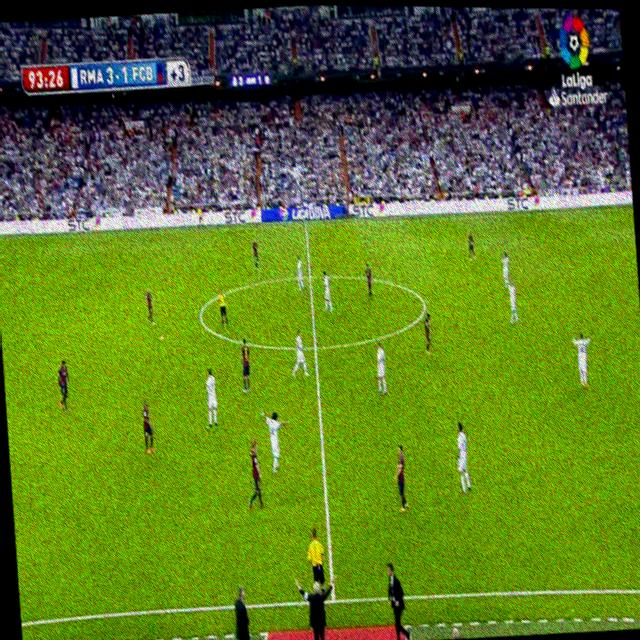halfcircle_bottom: (309, 335, 319, 356)
halfcircle_top: (305, 266, 313, 284)
midline_bottom_intersection: (326, 591, 339, 608)
midline_top_intersection: (302, 218, 308, 231)
